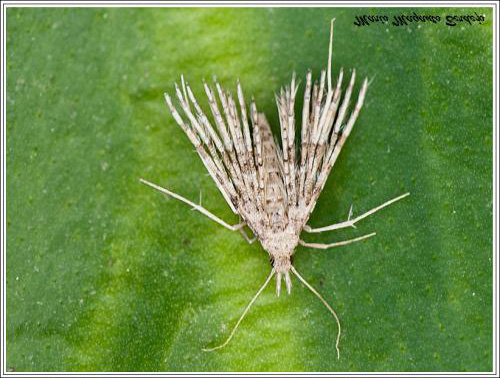Alucitidae: (128, 13, 420, 357)
moth: (130, 15, 422, 359)
